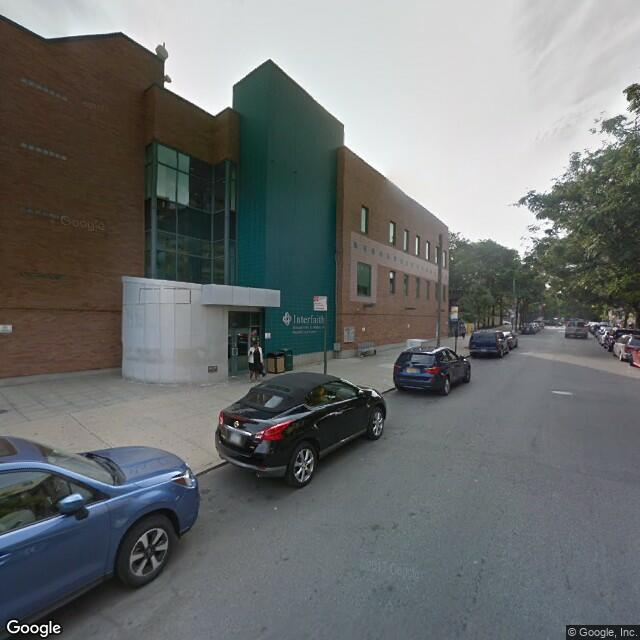litter: (272, 504, 280, 511)
